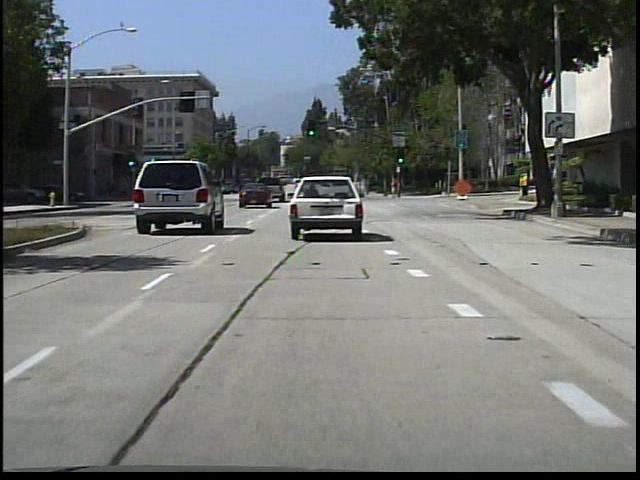person: (390, 173, 404, 201)
